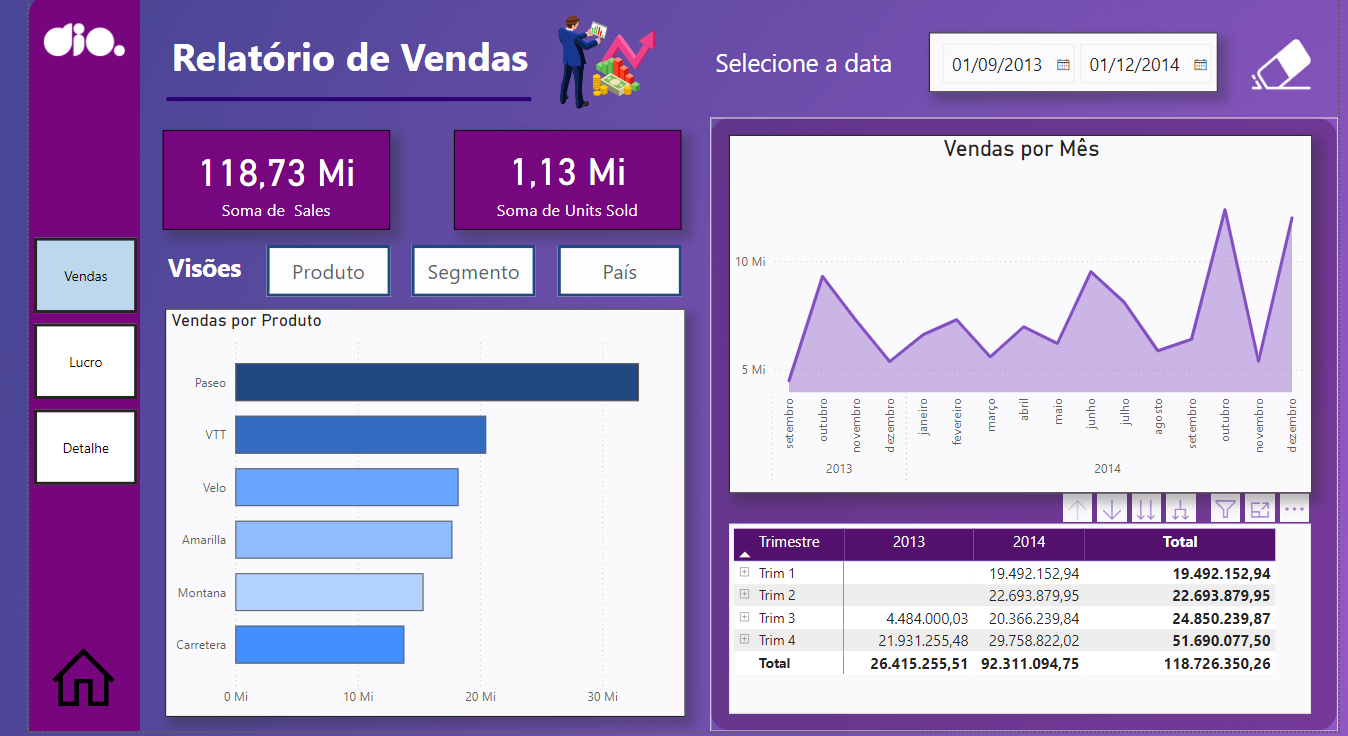

Layout of this report page (visuals, bound fields, positions):
{"tool":"powerbi","page":{"name":"Vendas","canvas":[1280,720],"ordinal":0},"visuals":[{"type":"shape","box":[0,0,108.8,720.2],"z":0},{"type":"image","title":"Borracha","box":[1189.2,34.2,70.9,67.3],"z":0,"group":"g1"},{"type":"shape","box":[134.6,83.7,357,37.4],"z":0,"group":"g2"},{"type":"textbox","title":"Texto visões","box":[131,245.1,91.7,50.1],"z":0,"group":"g4"},{"type":"image","box":[491.4,0,174.9,130.8],"z":1000},{"type":"textbox","title":"Título","box":[134.6,29.6,367.3,62.2],"z":1000,"group":"g2"},{"type":"slicer","fields":{"Values":["financials.Date"]},"box":[879.8,36.6,282.5,58.7],"z":1000,"group":"g1"},{"type":"actionButton","title":"País","box":[516.9,244.3,121.5,50.6],"z":1500,"group":"g4"},{"type":"image","box":[9.7,8.3,89,71],"z":2000},{"type":"textbox","box":[666.3,45.4,202.4,43.4],"z":2000,"group":"g1"},{"type":"actionButton","title":"Segmento","box":[374.5,244.3,121.5,50.6],"z":2000,"group":"g4"},{"type":"shape","box":[666.6,120,613.1,600.1],"z":2500,"group":"g5"},{"type":"actionButton","title":"Produto","box":[232,244.3,121.5,50.6],"z":2500,"group":"g4"},{"type":"clusteredBarChart","title":"Vendas por Produto","fields":{"Category":["financials.Product"],"Y":["Sum(financials. Sales)"]},"box":[132.8,306.9,508.7,399.5],"z":2500,"group":"g3"},{"type":"pivotTable","fields":{"Values":["Sum(financials. Sales)"],"Rows":["financials.Date.Variation.Hierarquia de datas.Trimestre","financials.Date.Variation.Hierarquia de datas.Mês"],"Columns":["financials.Date.Variation.Hierarquia de datas.Ano"]},"box":[685.1,517.1,569.1,185.8],"z":2750,"group":"g5"},{"type":"group","id":"g1","title":"Data","box":[666.3,34.2,593.8,67.3],"z":3000},{"type":"actionButton","title":"Botão Borracha","box":[1189.2,35.4,70.9,64.8],"z":3000,"group":"g1"},{"type":"areaChart","title":"Vendas por Mês","fields":{"Category":["financials.Date.Variation.Hierarquia de datas.Ano","financials.Date.Variation.Hierarquia de datas.Mês"],"Y":["Sum(financials. Sales)"]},"box":[685.1,136.7,570.3,350.1],"z":3000,"group":"g5"},{"type":"group","id":"g2","title":"Título Página","box":[134.6,29.6,367.3,91.5],"z":4000},{"type":"card","fields":{"Values":["Sum(financials. Sales)"]},"box":[130.6,132.1,222.6,97.8],"z":5000},{"type":"card","fields":{"Values":["Sum(financials.Units Sold)"]},"box":[416,132.2,222.6,97.4],"z":6000},{"type":"group","id":"g3","title":"Gráficos Barra","box":[131,306.9,510.5,401],"z":7000},{"type":"group","id":"g4","title":"Visões","box":[131,244.3,507.4,50.9],"z":8000},{"type":"group","id":"g5","title":"Grupo 1","box":[666.6,120,613.1,600.1],"z":9000},{"type":"pageNavigator","box":[4.3,237.1,101.2,244.4],"z":10000},{"type":"image","box":[4.3,629,96.9,81],"z":10001}]}

Visuals, with their boxes on the page's 1280x720 design canvas (x1, y1, x2, y2). These are canvas units, not pixel positions in the 1348x736 screenshot, which may show the page scaled, cropped or inside an application window:
shape: region(0, 0, 109, 720)
"Borracha" image: region(1189, 34, 1260, 102)
shape: region(135, 84, 492, 121)
"Texto visões" textbox: region(131, 245, 223, 295)
image: region(491, 0, 666, 131)
"Título" textbox: region(135, 30, 502, 92)
slicer - financials.Date: region(880, 37, 1162, 95)
"País" actionButton: region(517, 244, 638, 295)
image: region(10, 8, 99, 79)
textbox: region(666, 45, 869, 89)
"Segmento" actionButton: region(374, 244, 496, 295)
shape: region(667, 120, 1280, 720)
"Produto" actionButton: region(232, 244, 354, 295)
"Vendas por Produto" clusteredBarChart: region(133, 307, 642, 706)
pivotTable - Sum(financials. Sales) x financials.Date.Variation.Hierarquia de datas.Trimestre: region(685, 517, 1254, 703)
"Data" group: region(666, 34, 1260, 102)
"Botão Borracha" actionButton: region(1189, 35, 1260, 100)
"Vendas por Mês" areaChart: region(685, 137, 1255, 487)
"Título Página" group: region(135, 30, 502, 121)
card - Sum(financials. Sales): region(131, 132, 353, 230)
card - Sum(financials.Units Sold): region(416, 132, 639, 230)
"Gráficos Barra" group: region(131, 307, 642, 708)
"Visões" group: region(131, 244, 638, 295)
"Grupo 1" group: region(667, 120, 1280, 720)
pageNavigator: region(4, 237, 106, 482)
image: region(4, 629, 101, 710)
